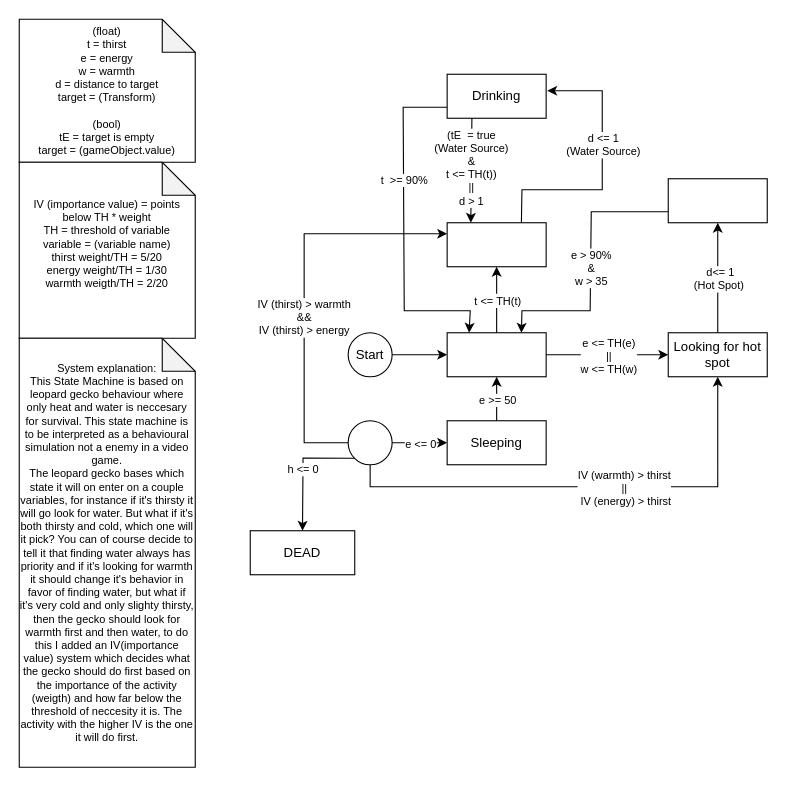
Some shapes in this 787 by 787 pixel diagram are drawn without their labels. The box of each missing label's shape, as (x1, y1, x2, y2) in pixels:
Any State: (347, 420, 392, 465)
Idle: (446, 332, 546, 377)
Looking for water: (446, 222, 546, 267)
Warming up: (667, 178, 767, 223)
